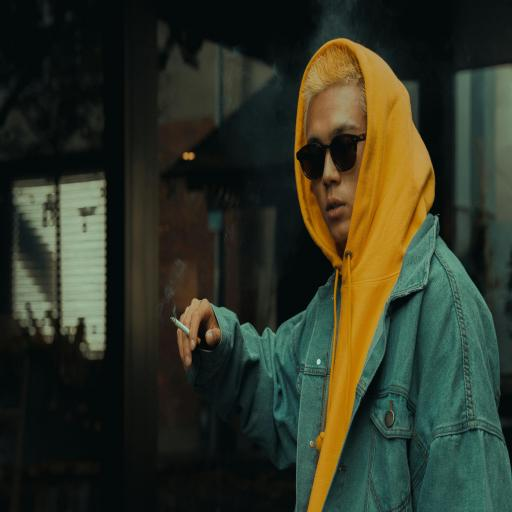terdeteksi pegang rokok: (164, 260, 234, 410)
